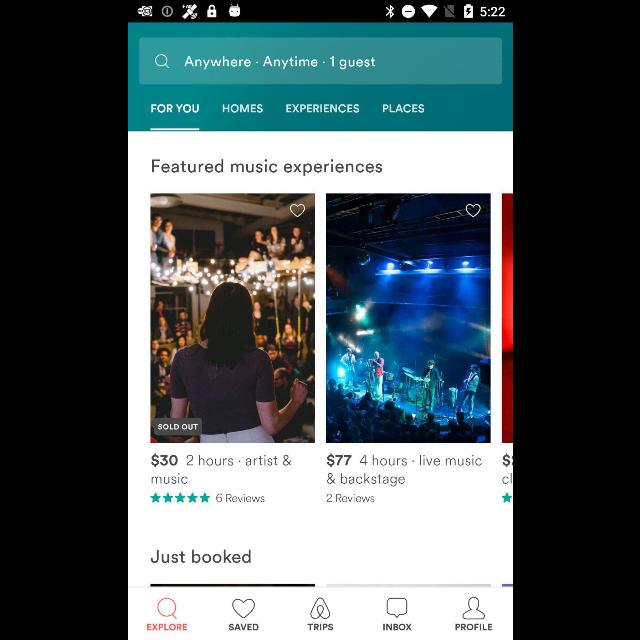icon: (150, 492, 210, 502), (462, 596, 484, 620), (156, 598, 178, 620), (232, 599, 254, 619), (386, 598, 406, 618), (289, 204, 305, 218), (464, 205, 480, 218), (154, 54, 168, 68)
image: (326, 194, 490, 442), (150, 194, 314, 442), (310, 597, 330, 619)
input: (138, 37, 502, 84)
text: (326, 454, 482, 486), (150, 454, 290, 484), (151, 160, 381, 177), (183, 56, 374, 70), (150, 549, 250, 563), (286, 104, 358, 112), (326, 493, 374, 503), (216, 493, 264, 502), (150, 104, 198, 112), (382, 105, 424, 114), (146, 623, 187, 631), (222, 104, 262, 112), (382, 623, 412, 631), (228, 623, 258, 631), (454, 624, 492, 630), (307, 624, 333, 630)
textbutton: (153, 417, 201, 435)
uppertaskbar: (128, 1, 512, 23)
